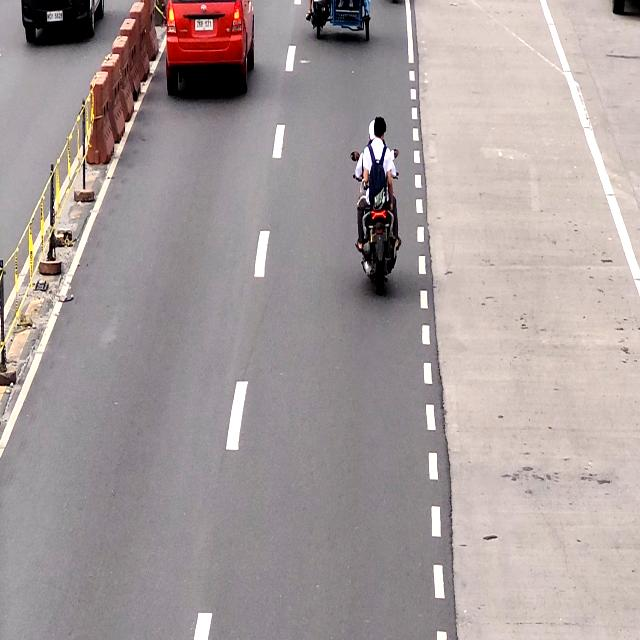Car: (164, 0, 255, 101)
License-Plate: (193, 17, 215, 31)
Motorcycle: (352, 117, 398, 296)
